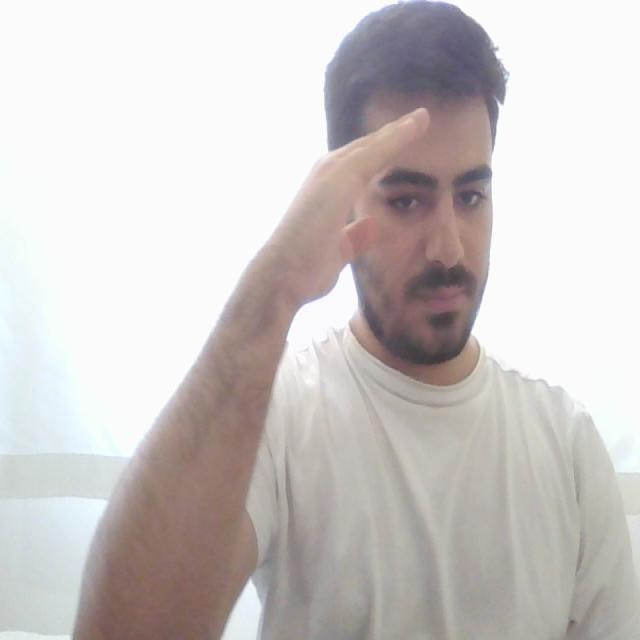Merhaba: (241, 88, 441, 356)
